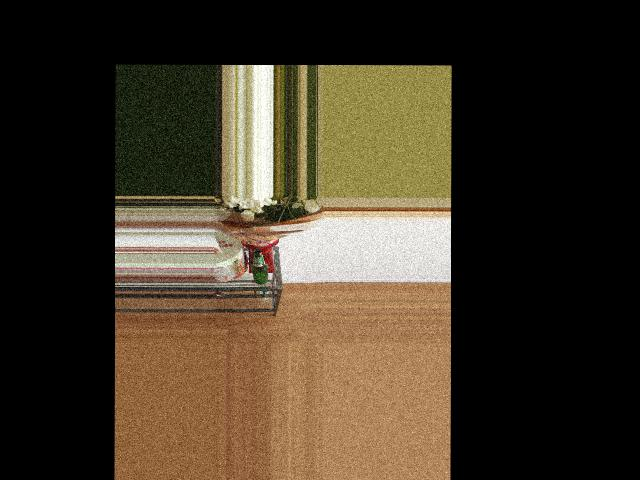beer: (250, 250, 268, 284)
